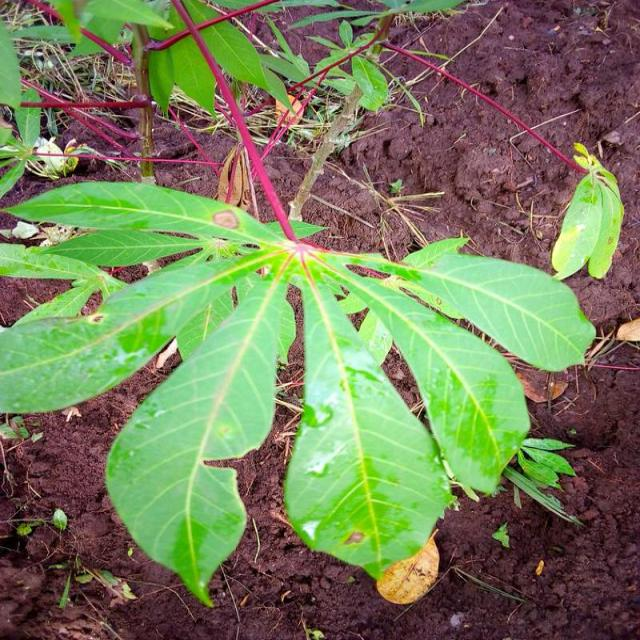cassava leaf: (105, 266, 296, 607), (320, 248, 532, 497), (282, 273, 453, 581)
